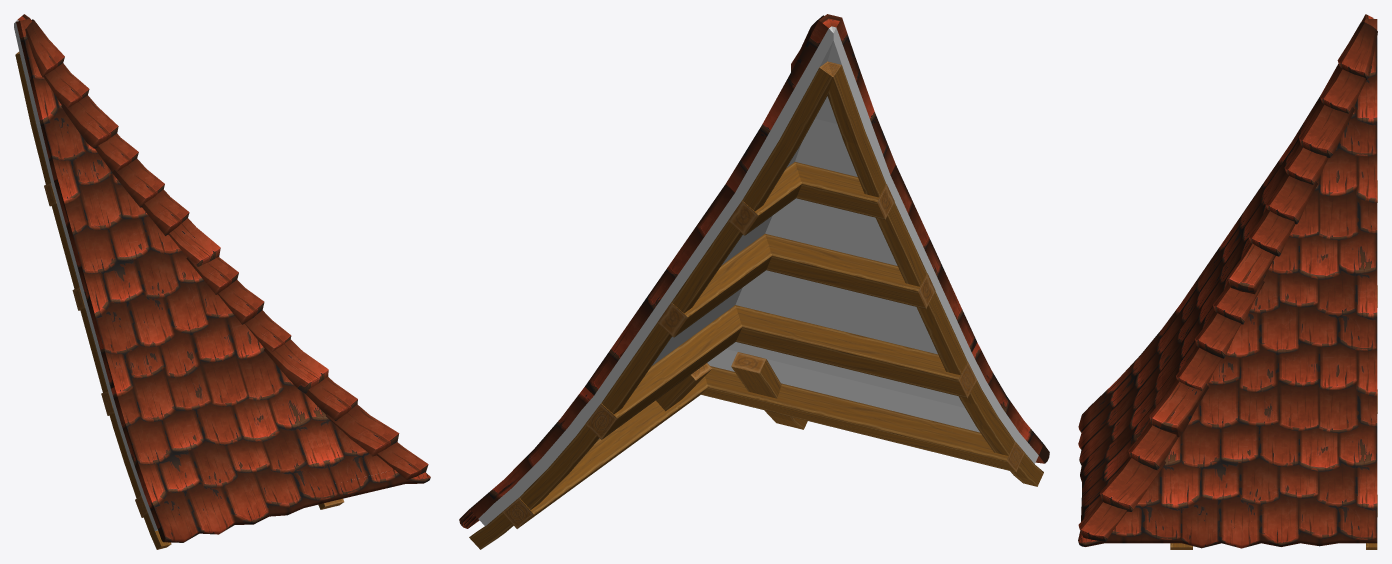
Rendered from SM_House_Roof_01_Corner_Outer_Standard.fbx.
3 views of the same model, side by side, from view 1: azimuth 30°, elevation 25°; view 2: azimuth 150°, elevation 25°; view 3: azimuth 270°, elevation 25° (orthographic). The views are drawn at different scales.
Parts seen in each view (by area): view 1: SM_House_Roof_01_Corner_Outer_Standard; view 2: SM_House_Roof_01_Corner_Outer_Standard; view 3: SM_House_Roof_01_Corner_Outer_Standard.
Boxes of the visible parts, box(x1,y1,x2,y2) form: SM_House_Roof_01_Corner_Outer_Standard: box(14, 14, 430, 549); SM_House_Roof_01_Corner_Outer_Standard: box(459, 14, 1049, 549); SM_House_Roof_01_Corner_Outer_Standard: box(1078, 14, 1377, 549).
Bounding box in the file's own units: 3.83 × 5.9 × 3.83.
